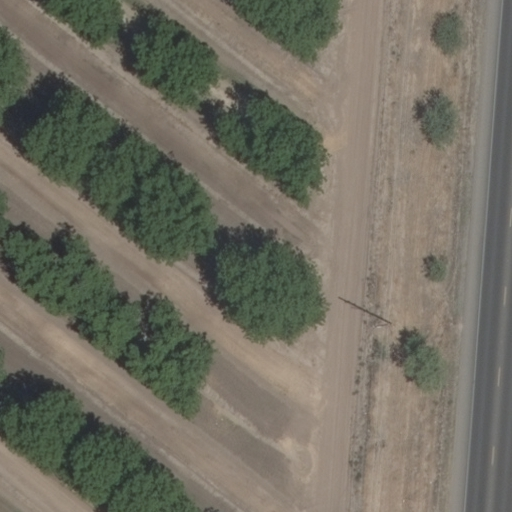DT: (383, 315, 399, 328)
